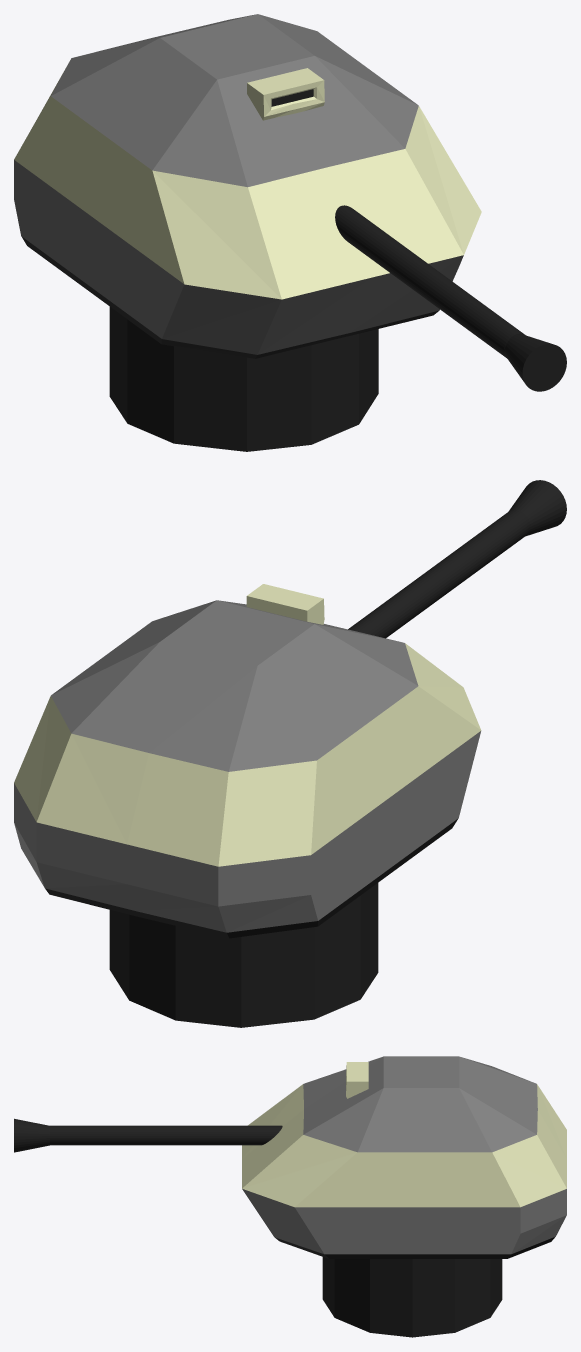
File: turret.glb
3 views of the same model, one above another, from view 1: azimuth 30°, elevation 25°; view 2: azimuth 150°, elevation 25°; view 3: azimuth 270°, elevation 25° (orthographic). The views are drawn at different scales.
Visible parts, largest first — view 1: tripo_node_5b2d22a4.001, Cylinder; view 2: tripo_node_5b2d22a4.001, Cylinder; view 3: tripo_node_5b2d22a4.001, Cylinder.
Boxes of the visible parts, left/top/right/bottom form: tripo_node_5b2d22a4.001: left=14, top=14, right=481, bottom=451; Cylinder: left=335, top=205, right=566, bottom=391; tripo_node_5b2d22a4.001: left=14, top=584, right=481, bottom=1027; Cylinder: left=348, top=480, right=566, bottom=638; tripo_node_5b2d22a4.001: left=242, top=1056, right=566, bottom=1337; Cylinder: left=14, top=1118, right=282, bottom=1152.
Size of the model in its own units: 1.53 by 1.69 by 3.72.
